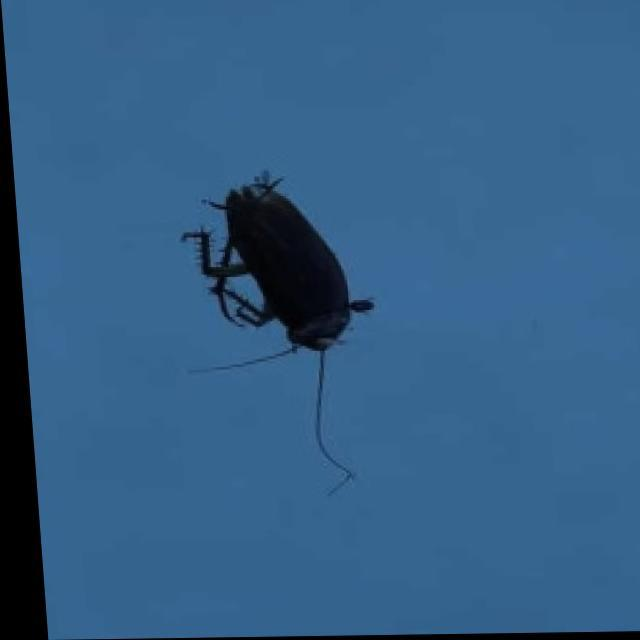cockroach: (182, 178, 380, 384)
